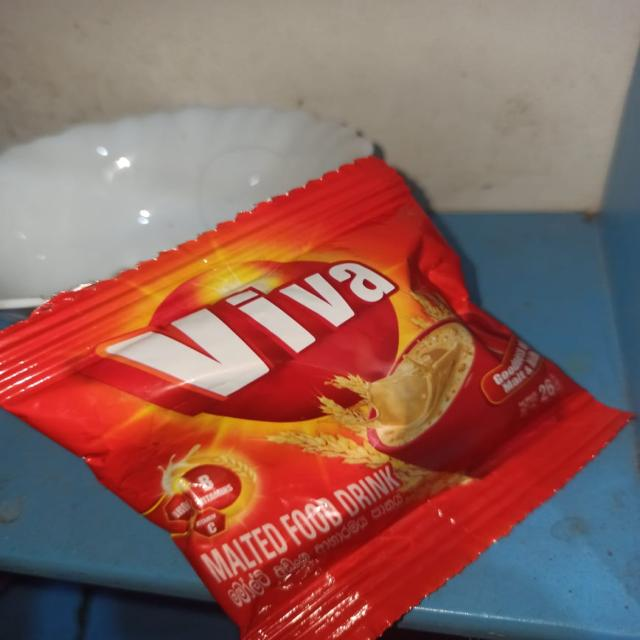Viva Malt: (0, 128, 640, 640)
